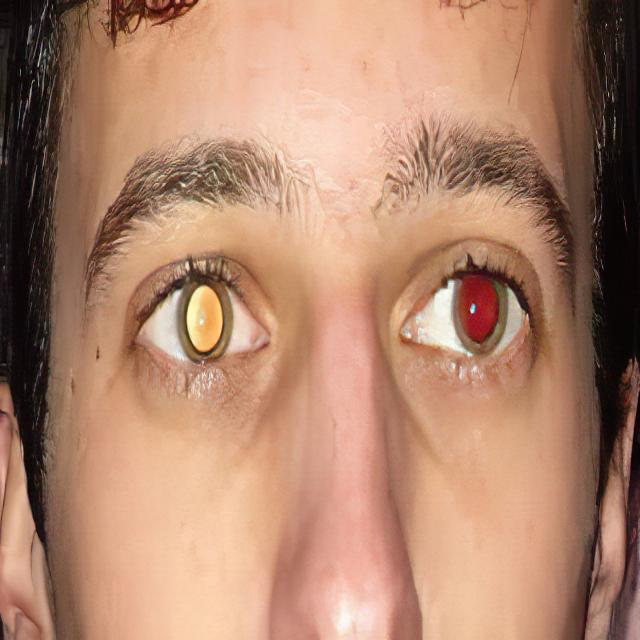reflexo-alterado: (137, 272, 275, 378)
reflexo-normal: (393, 248, 532, 382)
